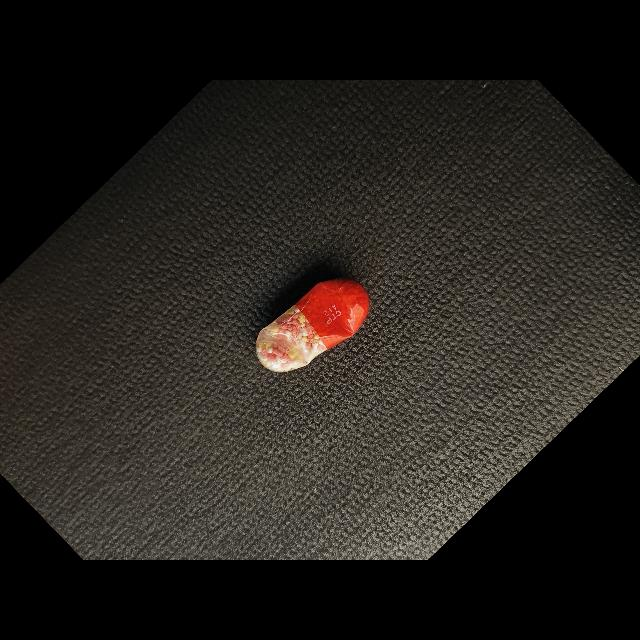Defective Capsule: (256, 279, 370, 373)
